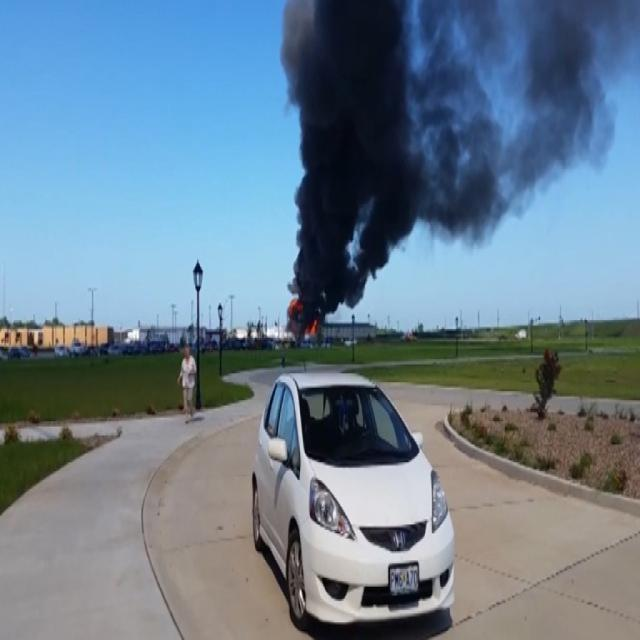Smoke: (267, 0, 629, 330)
